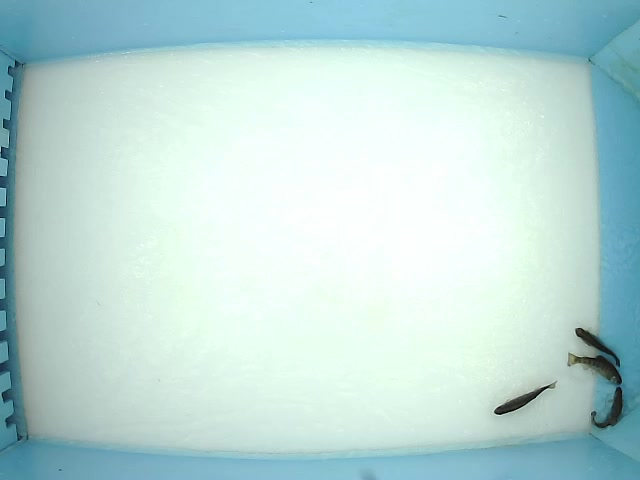fish: (493, 380, 558, 415), (567, 351, 623, 386), (574, 327, 621, 368), (590, 387, 624, 430)
